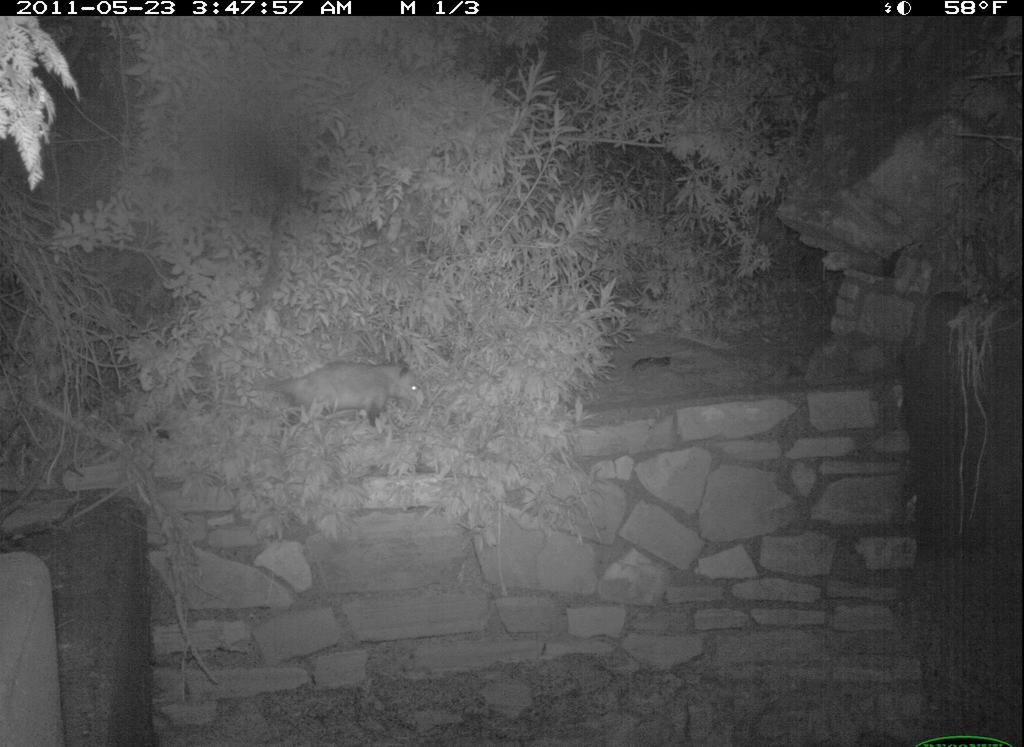opossum: (237, 356, 434, 437)
